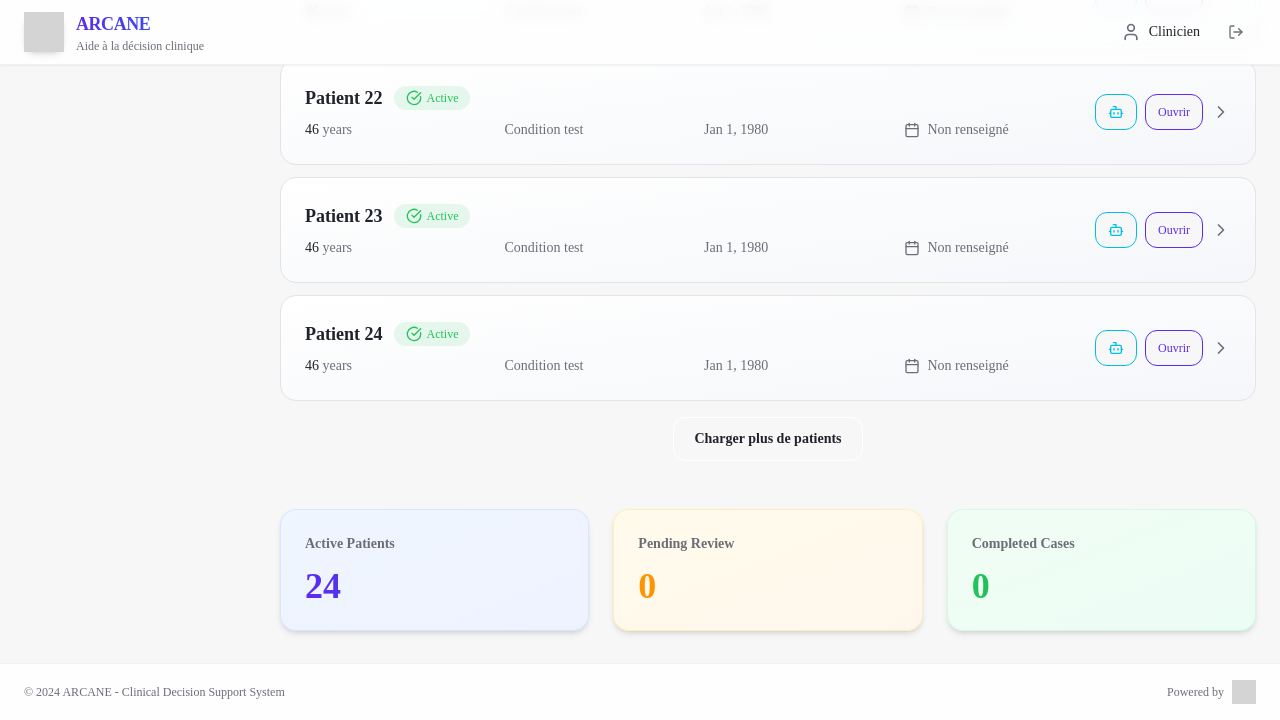
Scenario: Dashboard flow › charge une page supplementaire quand on clique sur Load more
(page scrolled)
Click the button "Charger plus de patients" at [768, 439], box [673, 417, 863, 461]
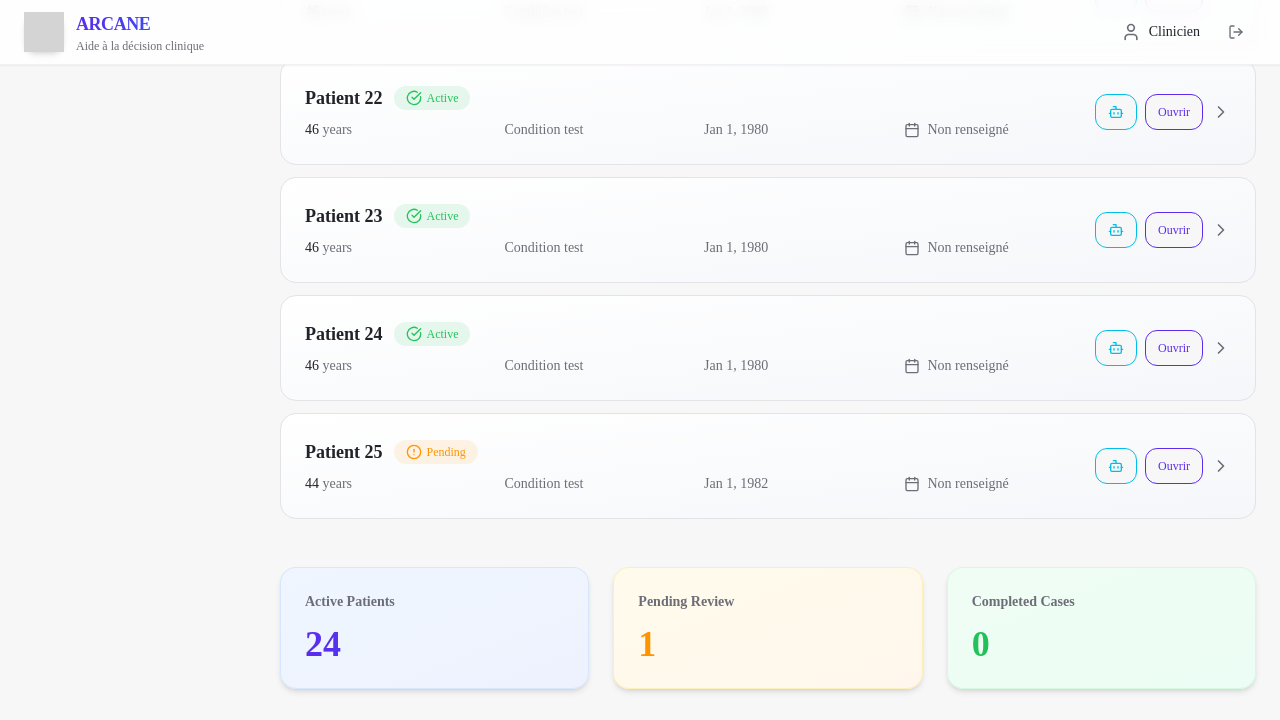
Check: the heading "Patient 25" is shown, box [305, 438, 382, 466]
